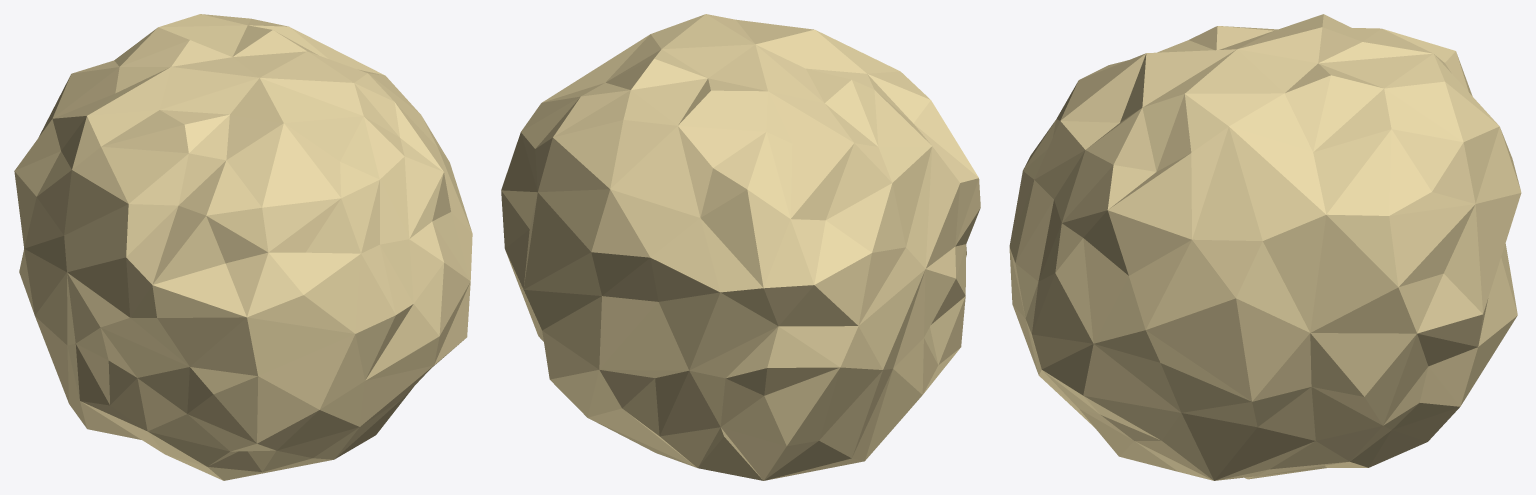
File: Asteroid (96).fbx
3 renders of one model, left to right at view 1: azimuth 30°, elevation 25°; view 2: azimuth 150°, elevation 25°; view 3: azimuth 270°, elevation 25°, orthographic. The views are drawn at different scales.
Visible parts, largest first — view 1: Asteroid212; view 2: Asteroid212; view 3: Asteroid212.
Part boxes in pixels (box(x1,y1,x2,y2)): Asteroid212: box(14, 14, 472, 480); Asteroid212: box(501, 14, 980, 480); Asteroid212: box(1009, 14, 1521, 480).
Size of the model in its own units: 467 by 452 by 505.
